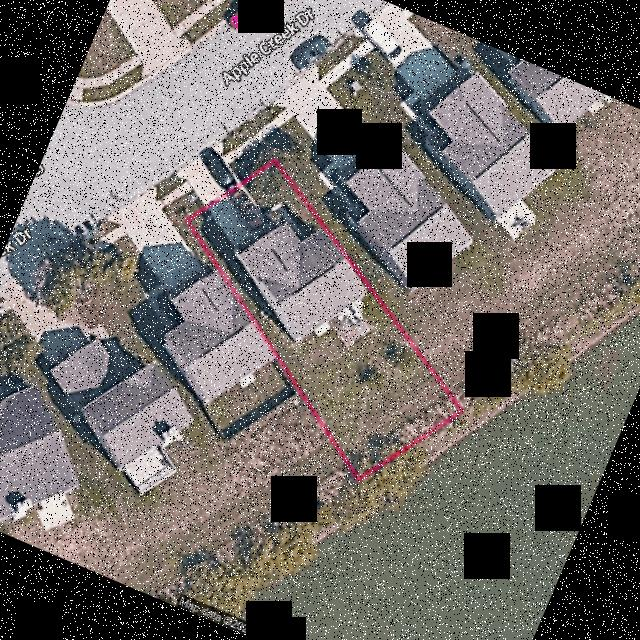Driveway: (207, 187, 307, 252)
Extra Driveway: (173, 139, 239, 205)
Extra Lawn: (228, 139, 272, 180), (171, 188, 205, 217), (222, 121, 252, 153), (156, 172, 184, 192)
Extra Sidewalk: (222, 133, 259, 162), (166, 179, 192, 200)
House: (236, 220, 365, 341)
Other: (314, 300, 372, 346)
